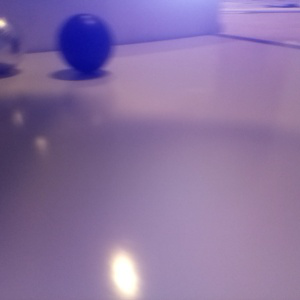alive_ball: (1, 15, 22, 73)
dead_ball: (57, 13, 112, 71)
